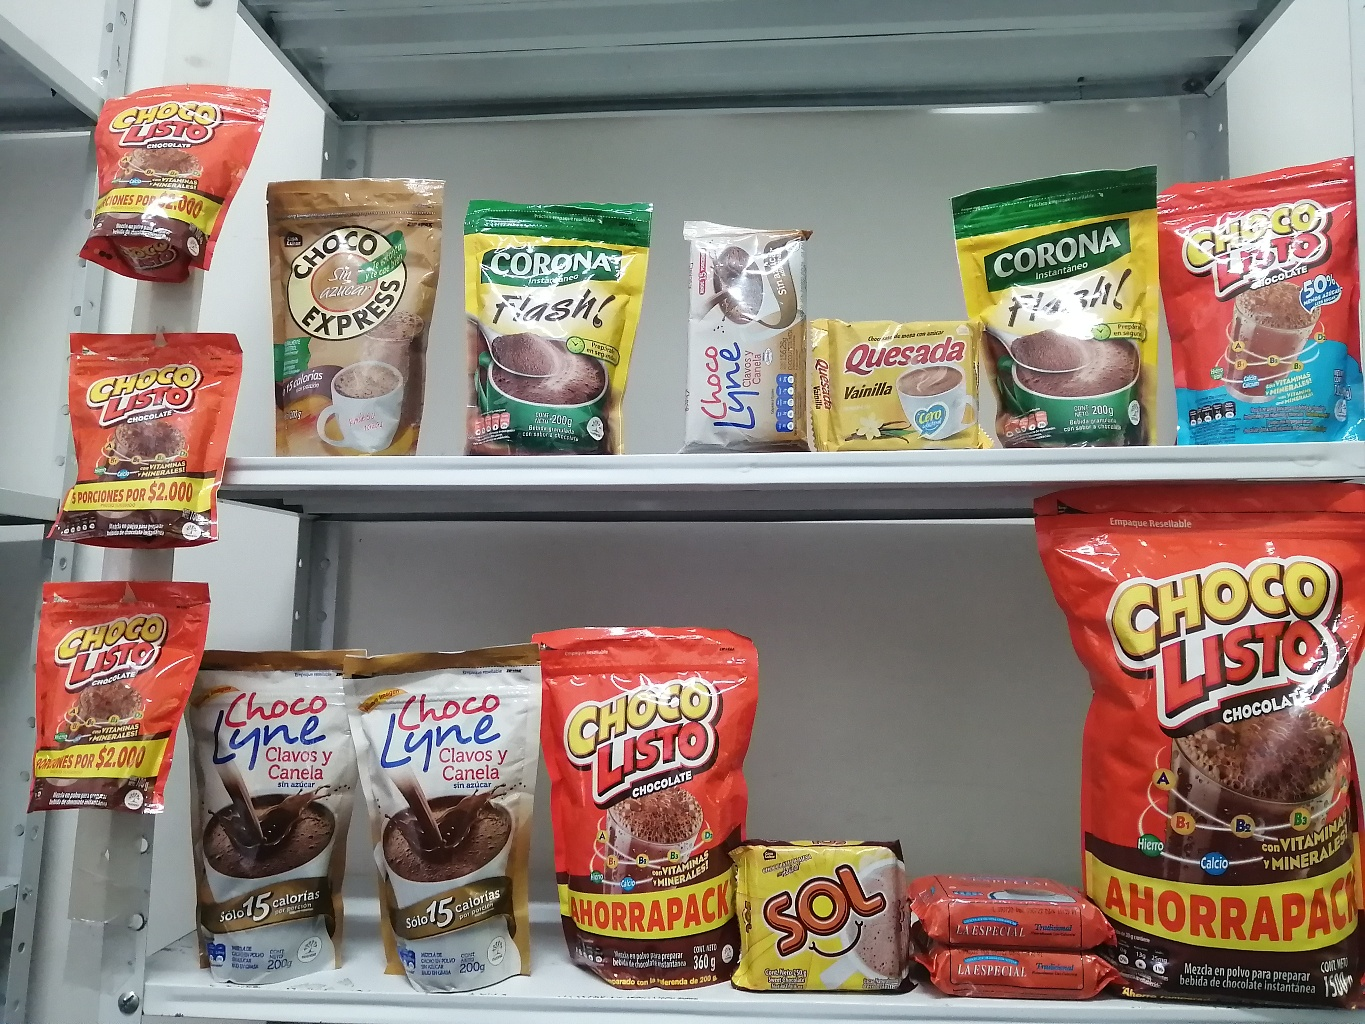COL0170103DYP1,500: (1032, 488, 1364, 1005)
COL0170103DYP36000: (538, 618, 758, 990)
COL0170104DYP20000: (1151, 150, 1362, 442)
